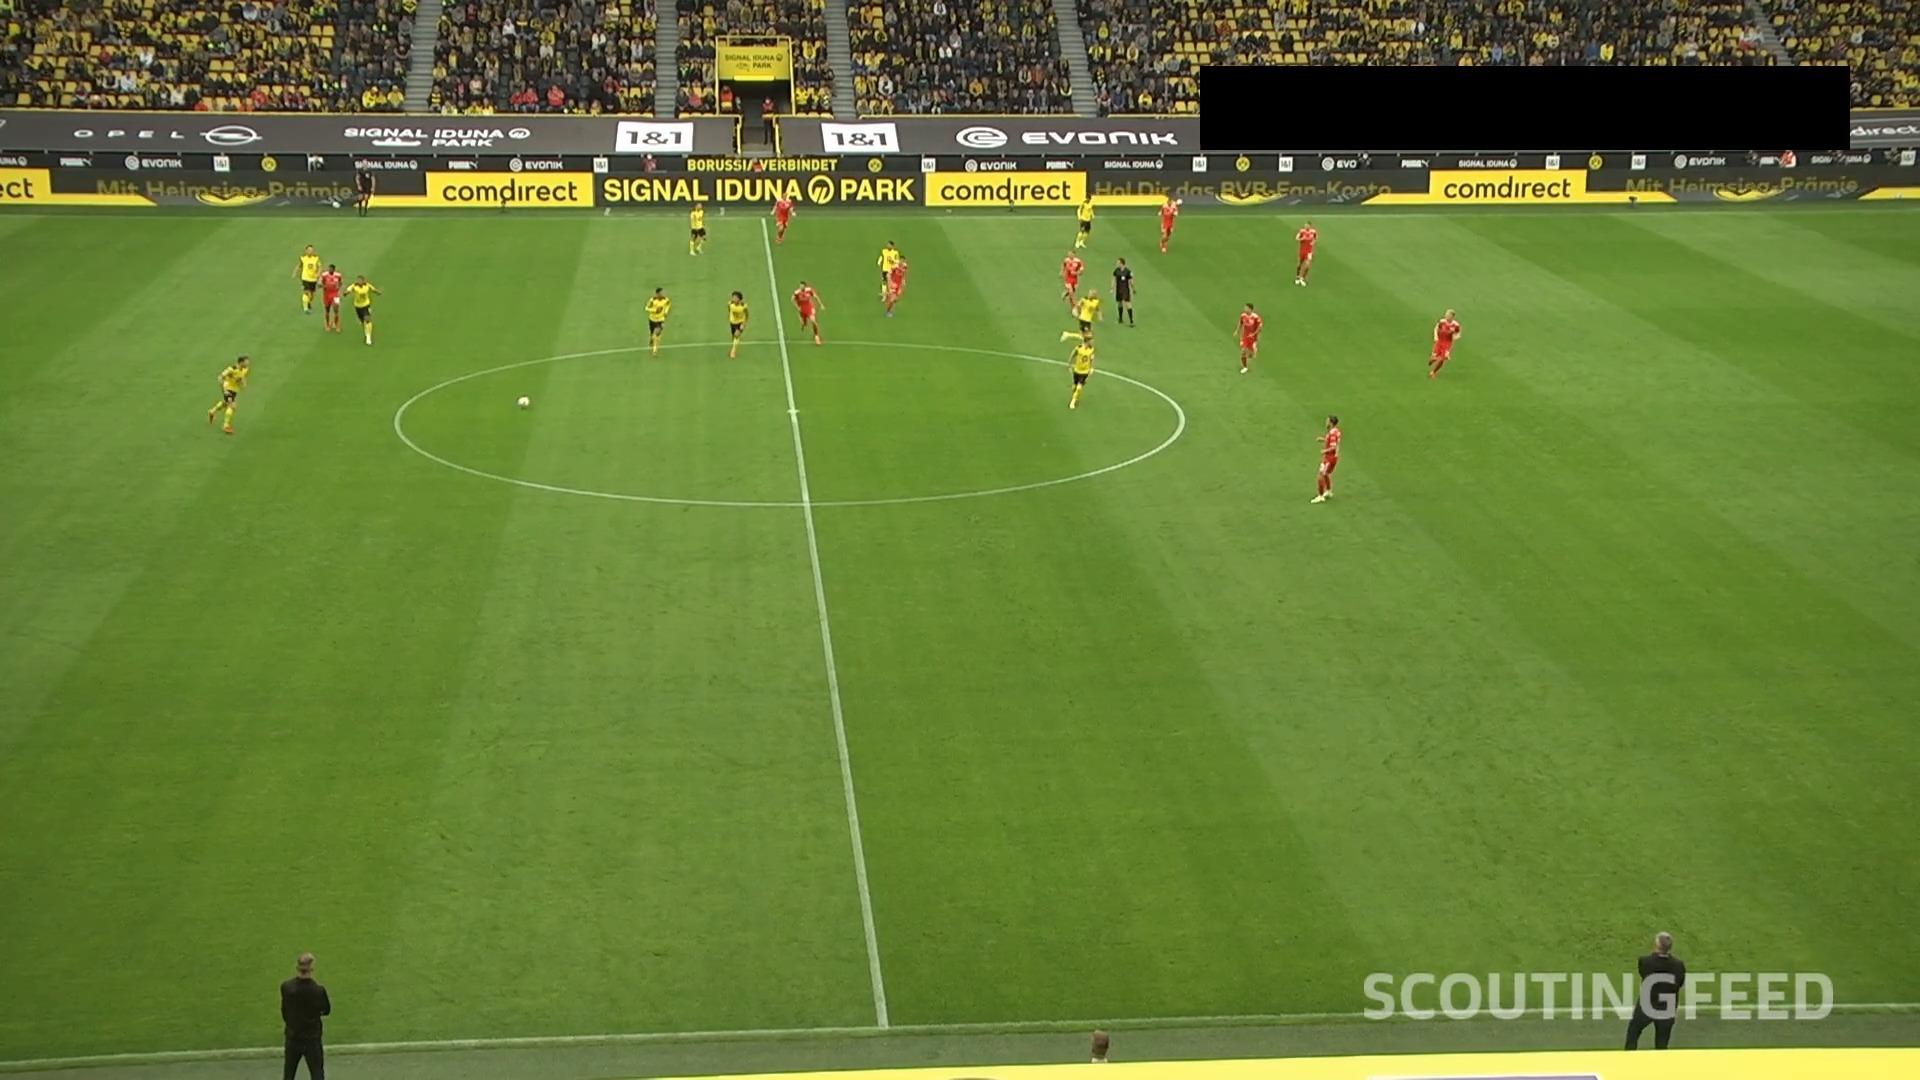ball: (516, 394, 531, 411)
